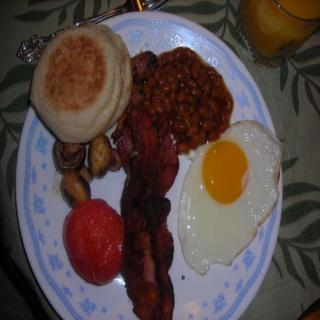Egg: (176, 118, 284, 276)
